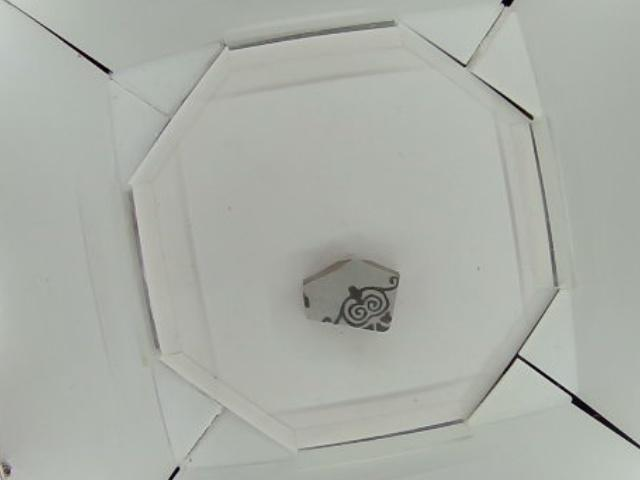China: (300, 256, 398, 336)
